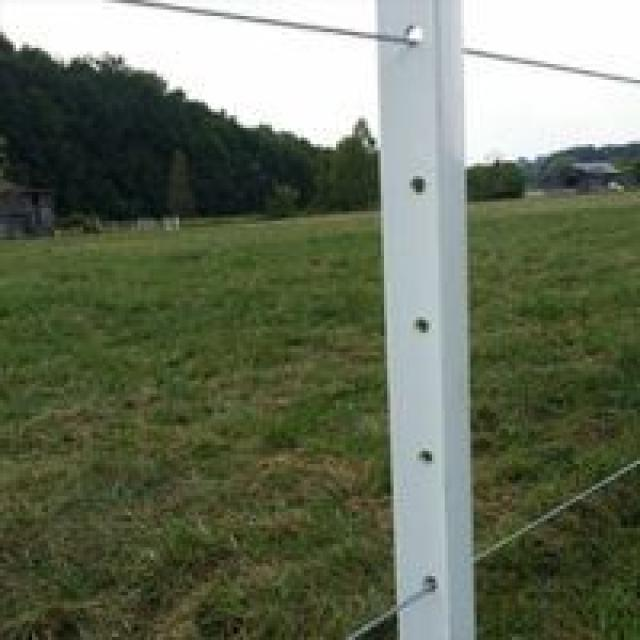fence: (453, 39, 637, 612)
